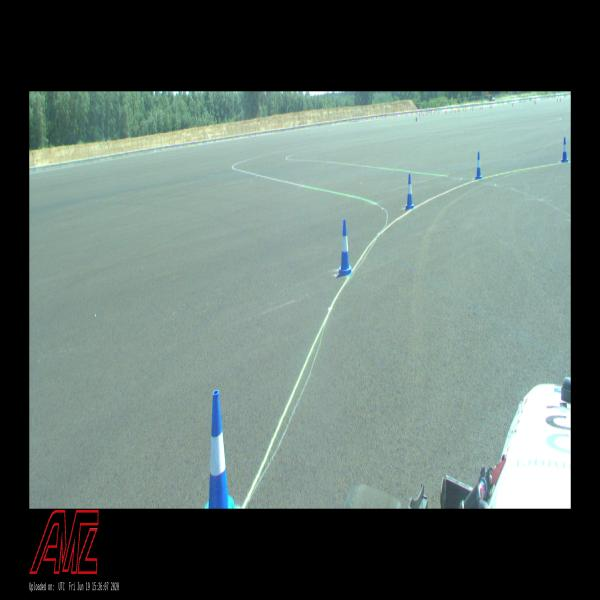blue_cone: (204, 389, 236, 508), (337, 219, 352, 277), (405, 174, 414, 209), (561, 137, 569, 162), (475, 152, 482, 179)
